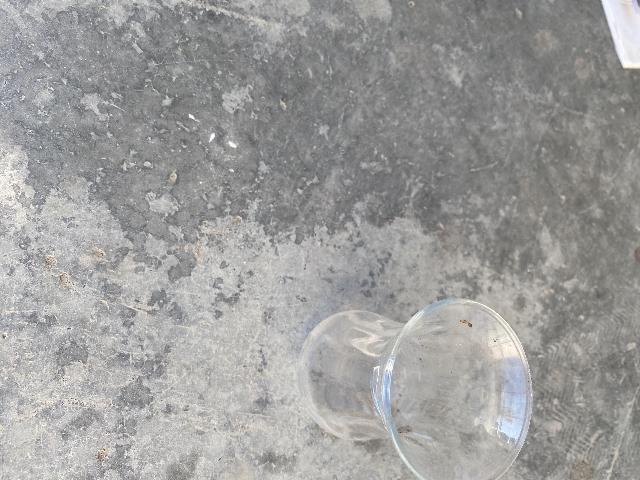Cam: (297, 305, 538, 480)
